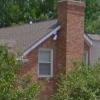Chimney: (23, 18, 34, 24)
